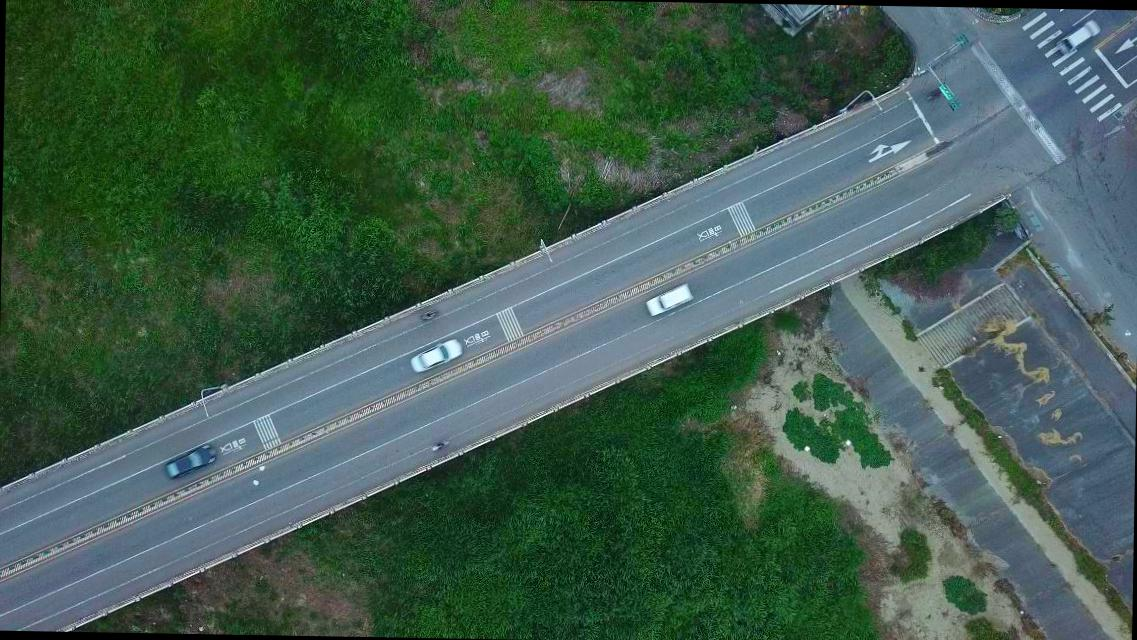vehicle: (163, 441, 218, 480), (410, 338, 462, 373), (644, 284, 695, 318), (1058, 18, 1100, 56)
